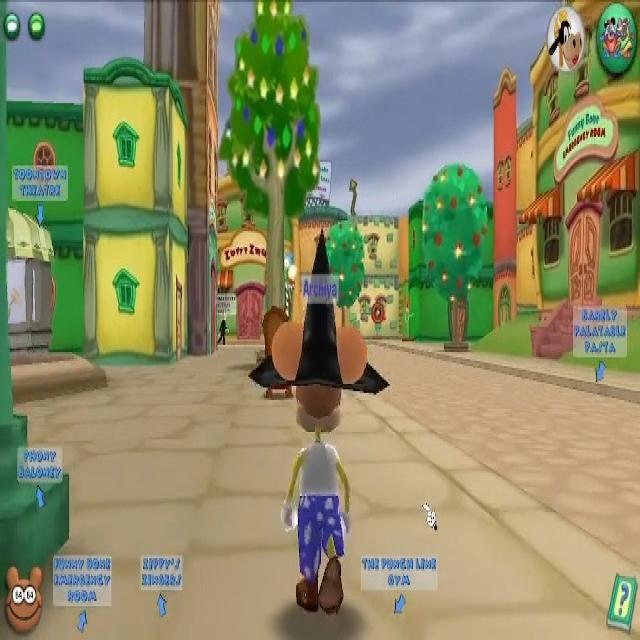telemarketer: (214, 294, 238, 348)
